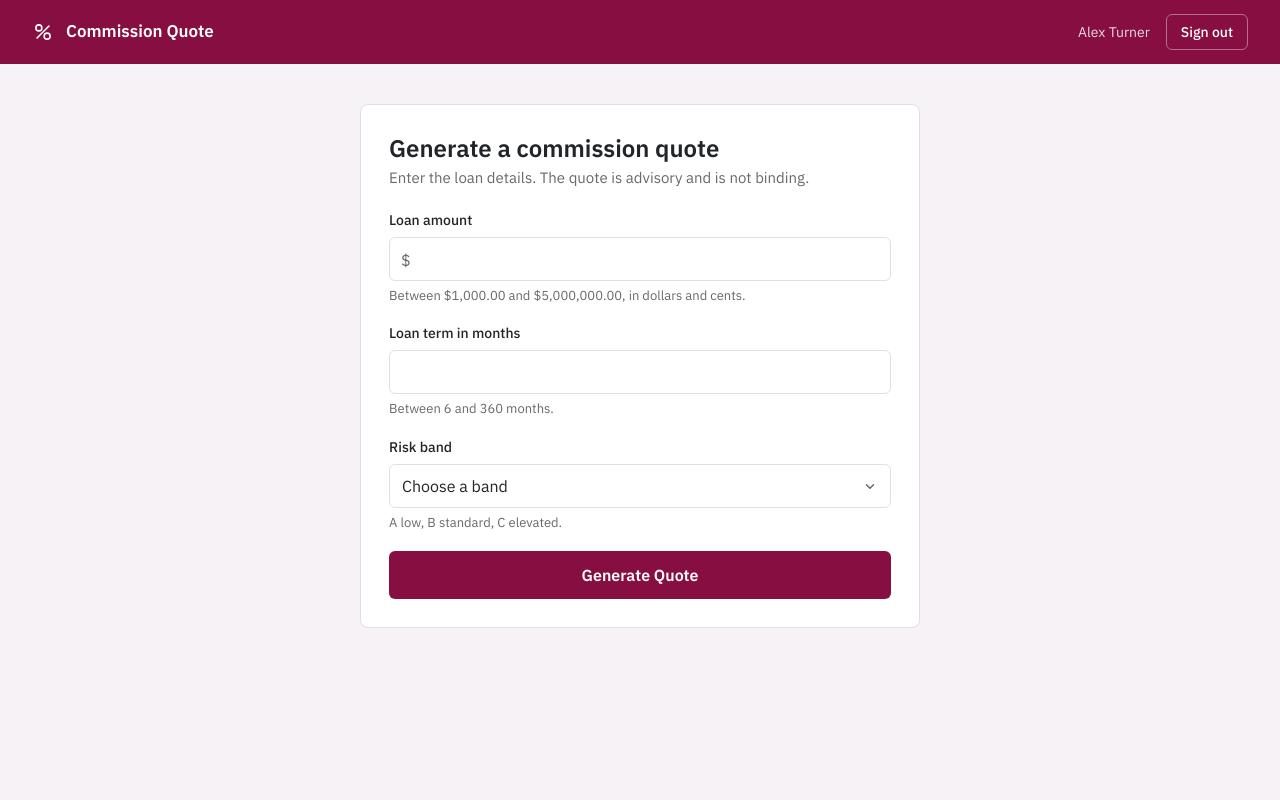
Test: failures › renders the message the BFF wrote, not one of its own
Check: the heading "Generate a commission quote" is shown, box top-left (389, 132), bottom-right (719, 164)
Type "250000.00" into the field labelled "Loan amount" at (640, 258), box top-left (389, 236), bottom-right (891, 280)
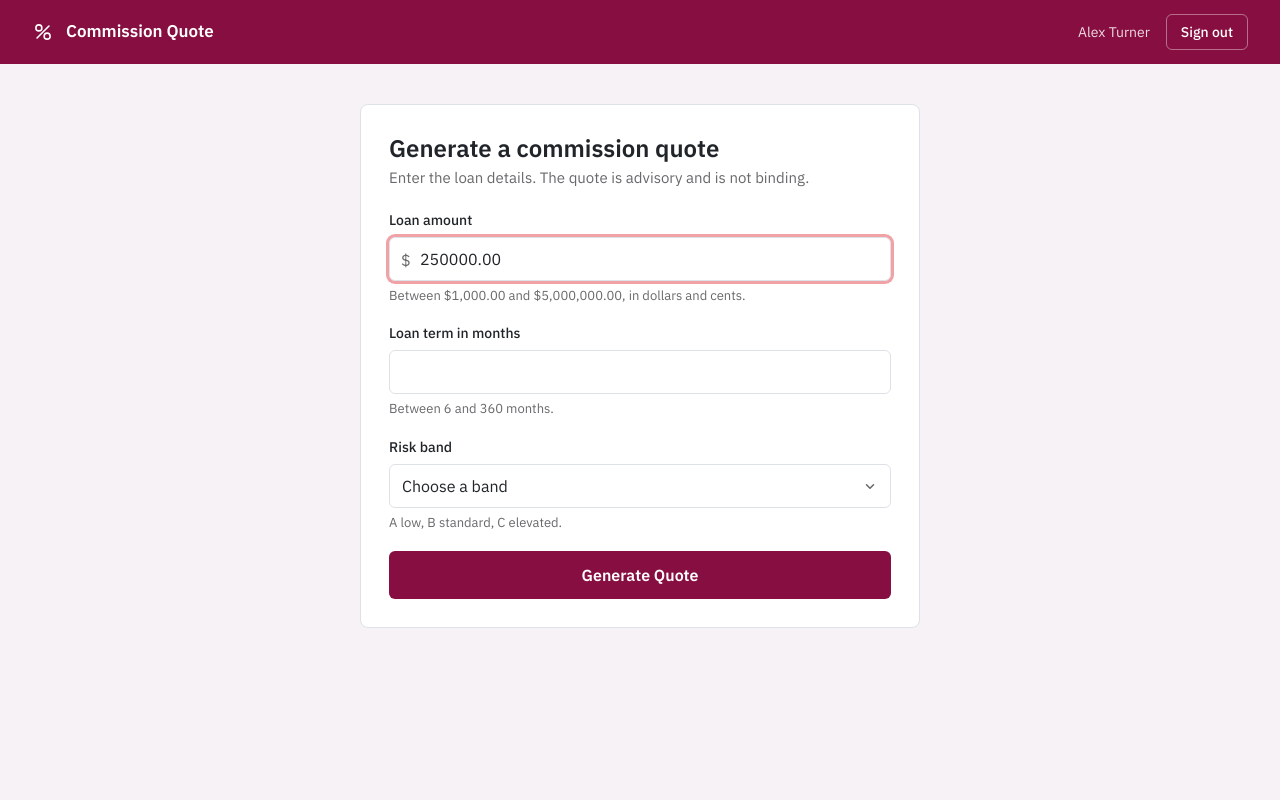
Type "240" into the field labelled "Loan term in months" at (640, 372), box top-left (389, 350), bottom-right (891, 394)
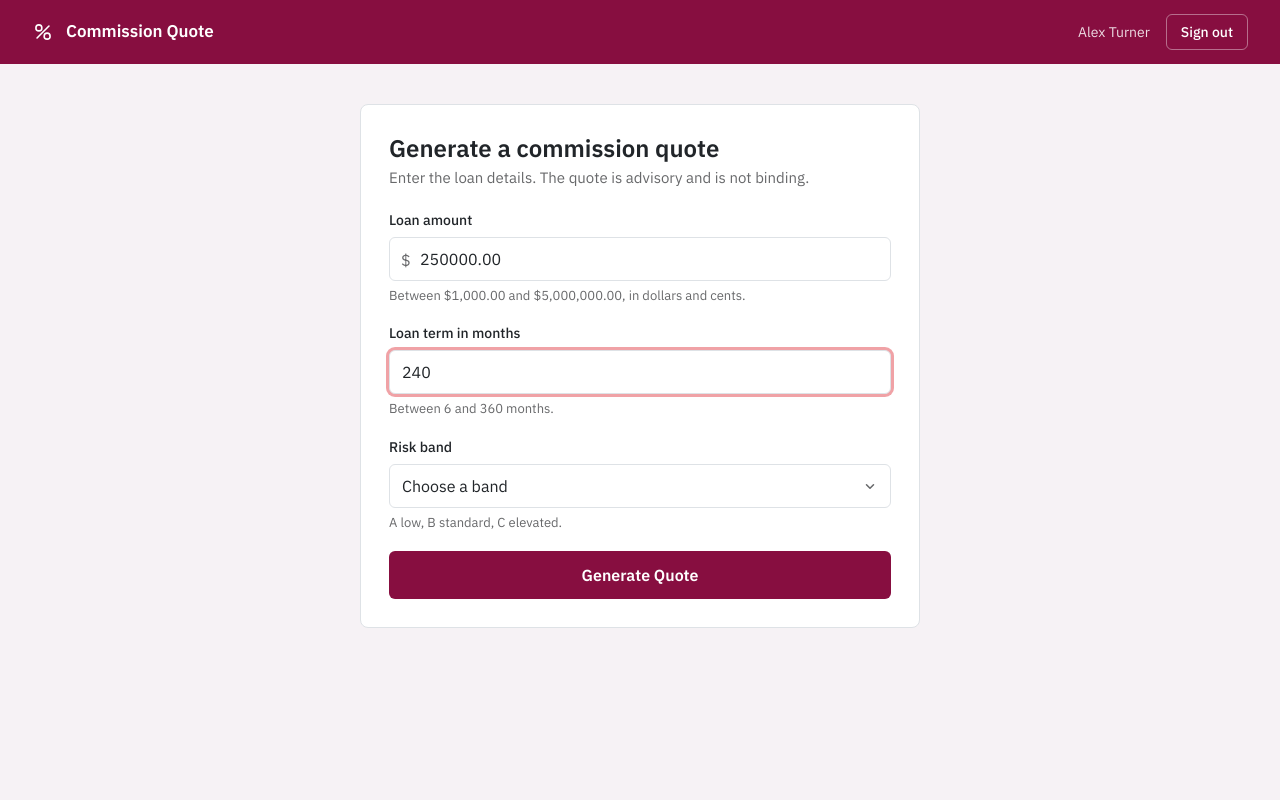
Select "B — Standard risk" in the dropdown labelled "Risk band" at (640, 486), box top-left (389, 464), bottom-right (891, 508)
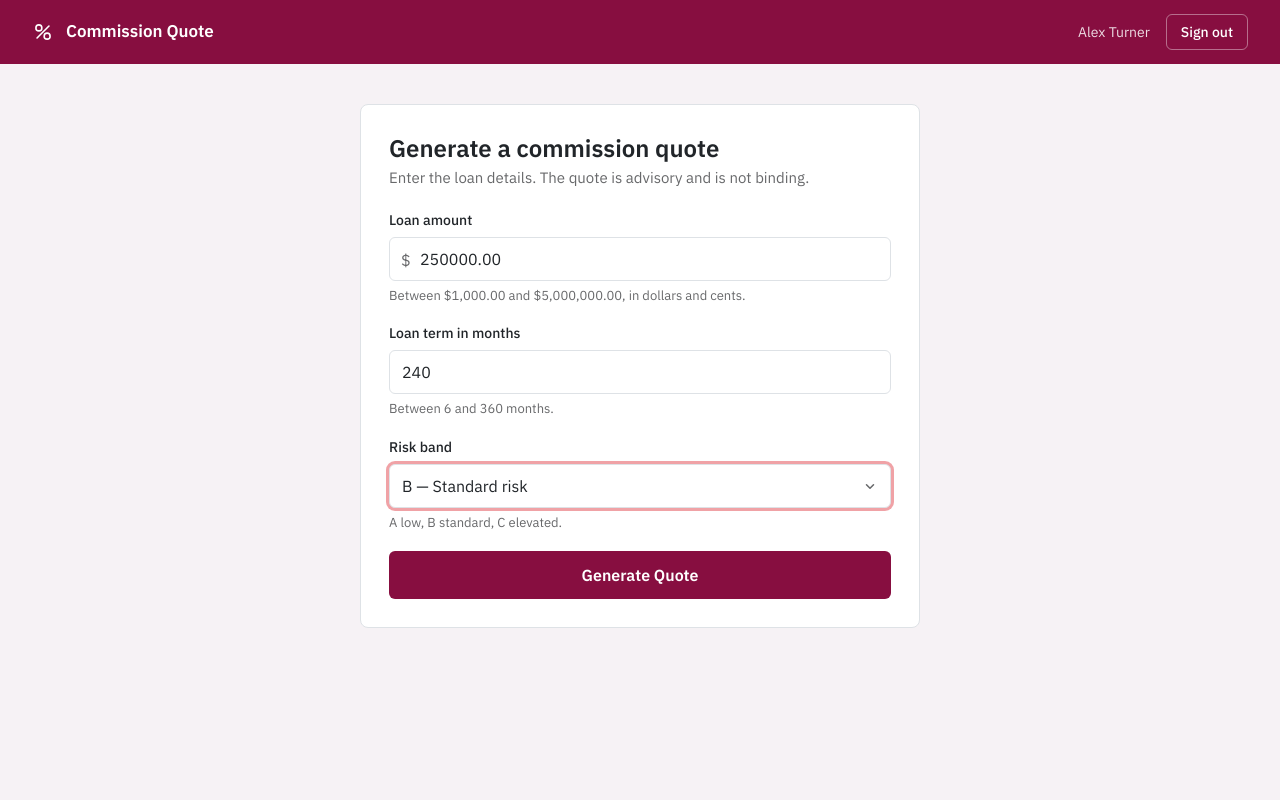
Click the button "Generate Quote" at (640, 575), box top-left (389, 551), bottom-right (891, 599)
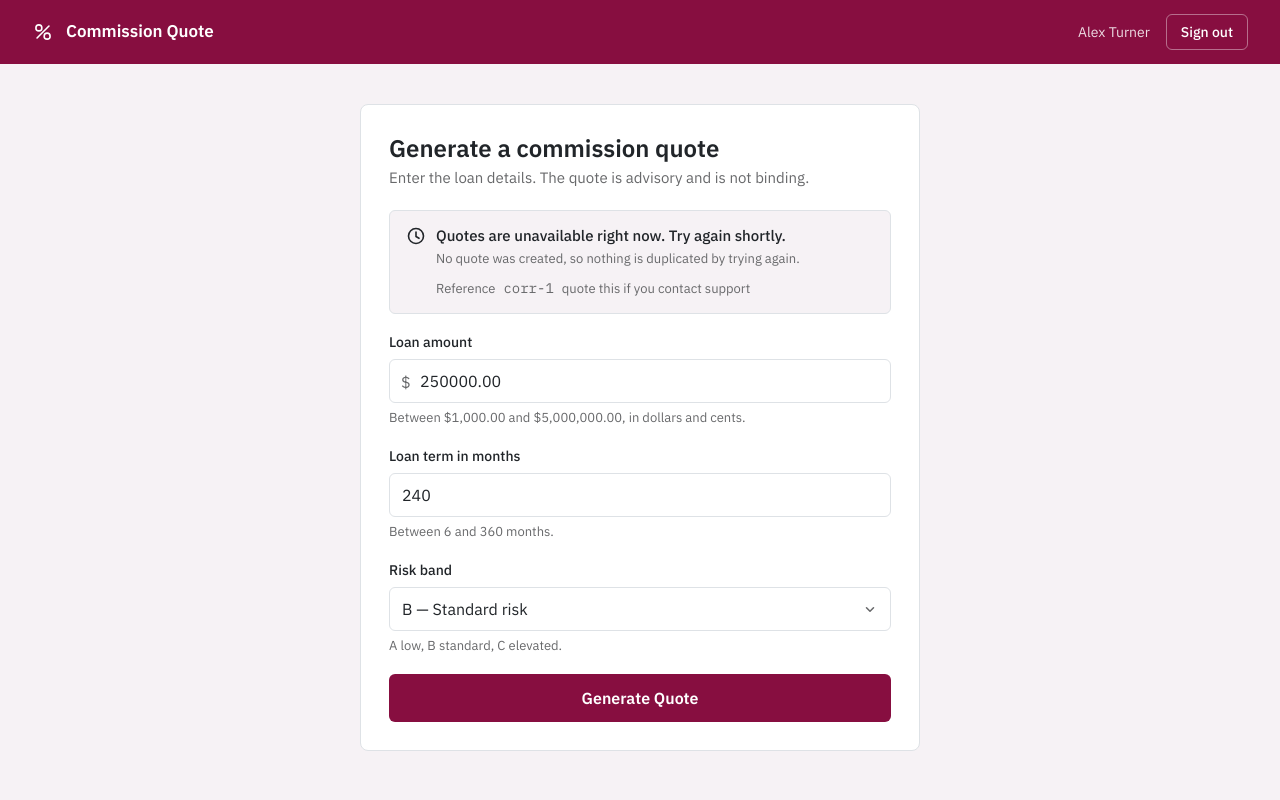
Check: the message shows "Quotes are unavailable right now. Try again shortly.", box top-left (436, 226), bottom-right (786, 244)
Check: the message shows "corr-1", box top-left (503, 279), bottom-right (554, 297)
